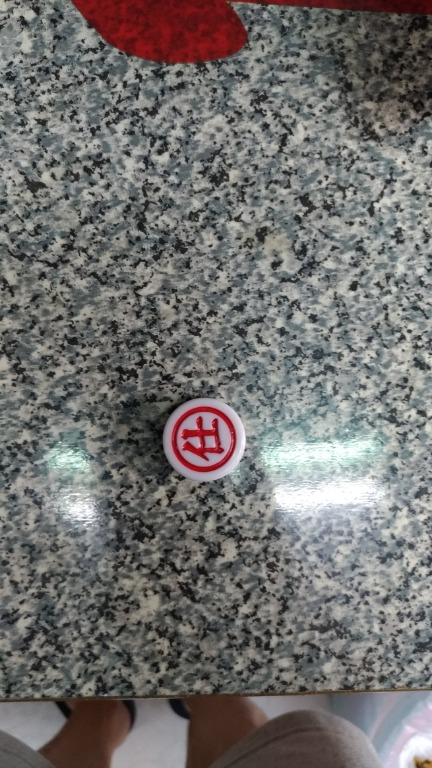r-advisor: (136, 386, 262, 494)
